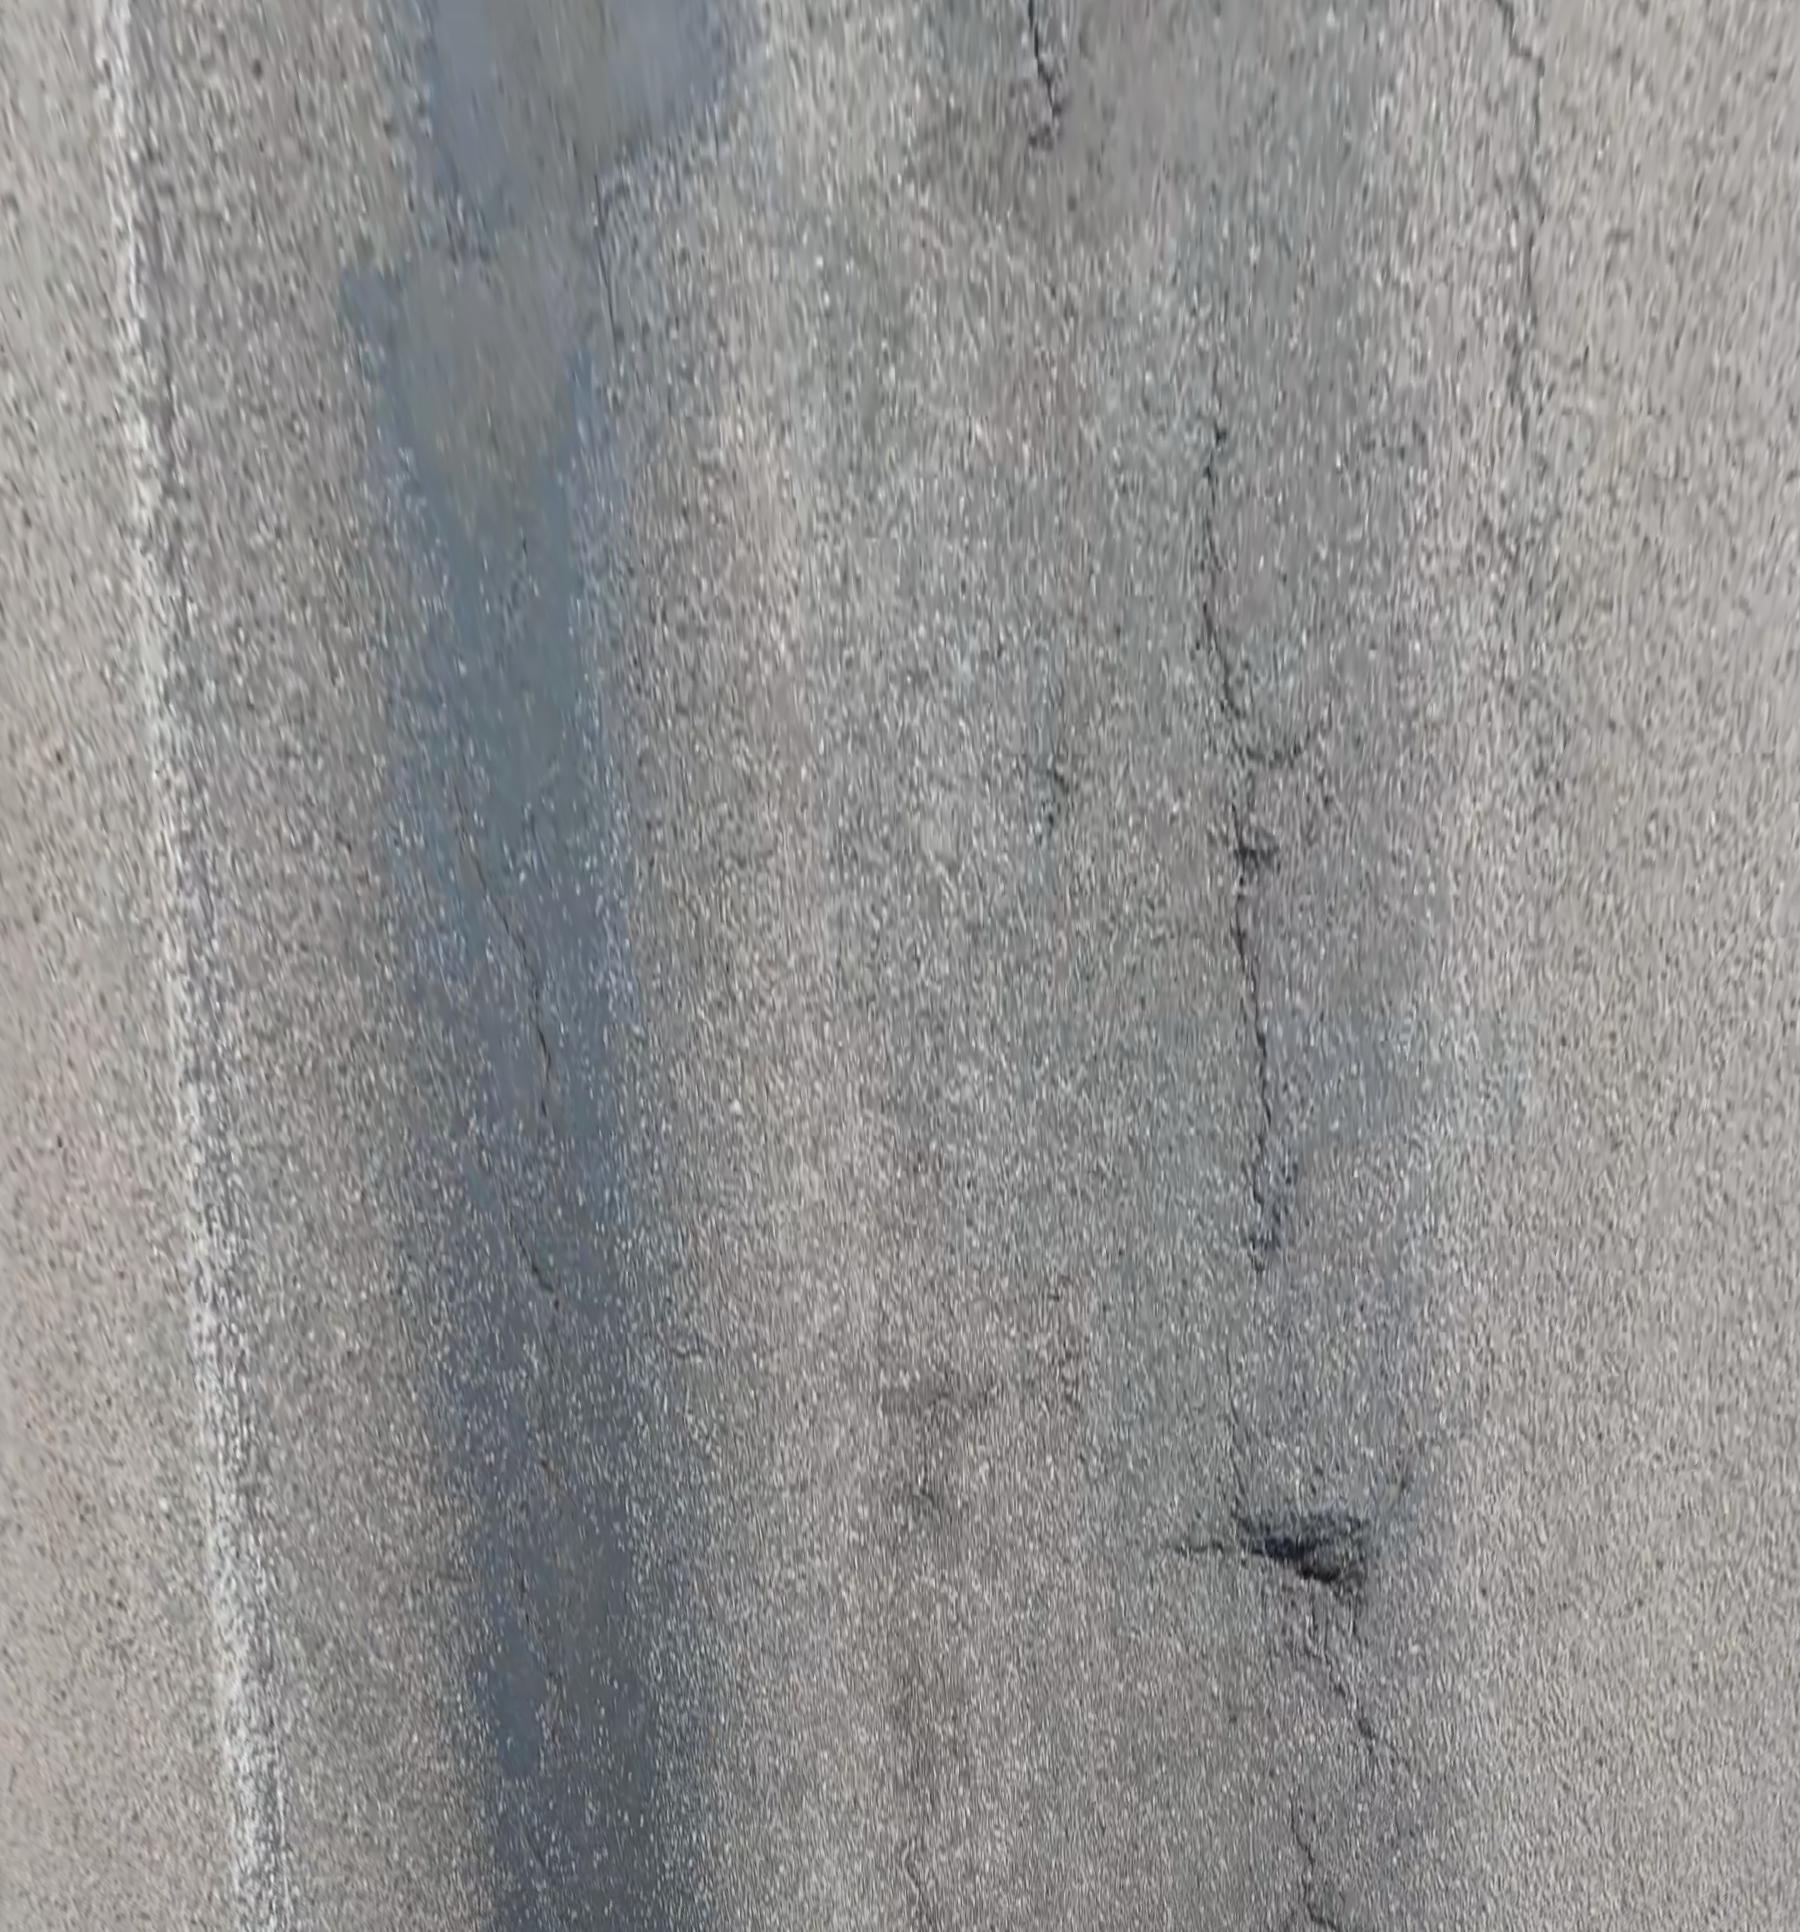pothole: (1235, 1501, 1379, 1605)
pothole_patch_poor: (343, 0, 726, 1932)
